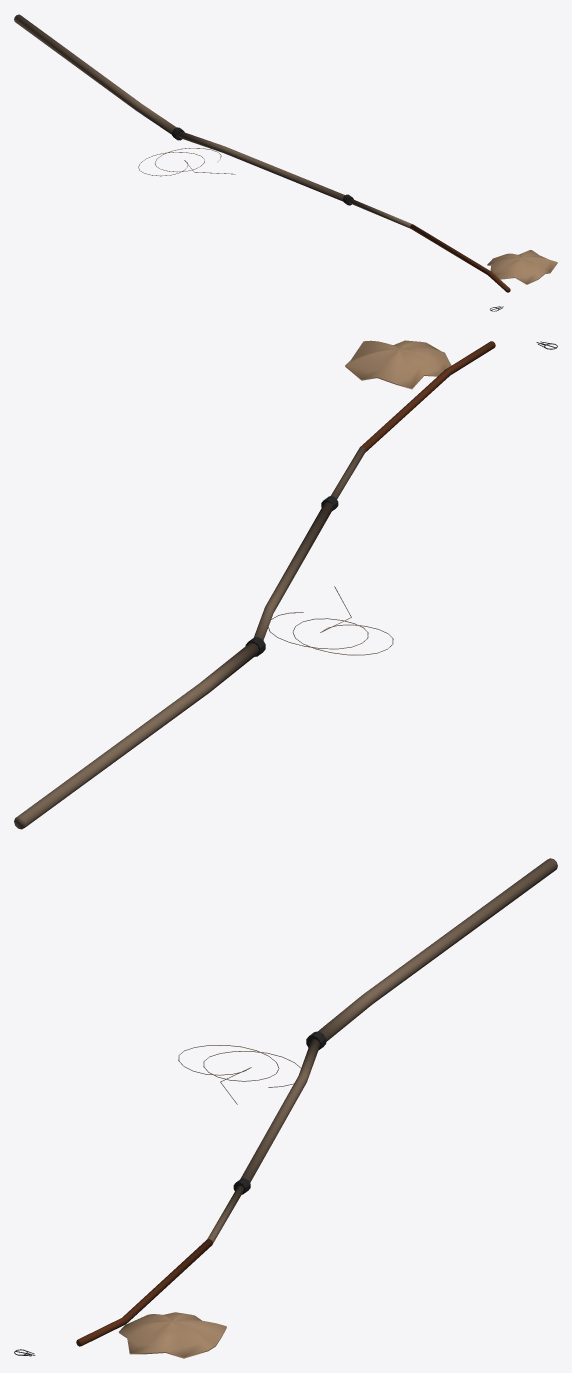
Rendered from pike_mast_wreck.glb.
3 views of the same model, one above another, from view 1: azimuth 30°, elevation 25°; view 2: azimuth 150°, elevation 25°; view 3: azimuth 330°, elevation 25° (orthographic). The views are drawn at different scales.
Parts seen in each view (by area): view 1: mast_wreck_LOD0, mast_wreck_dish_LOD0; view 2: mast_wreck_LOD0, mast_wreck_dish_LOD0, mast_wreck_guy_LOD0; view 3: mast_wreck_LOD0, mast_wreck_dish_LOD0.
Part boxes in pixels (bbox=[...]): mast_wreck_LOD0: bbox=[14, 14, 510, 292]; mast_wreck_dish_LOD0: bbox=[487, 250, 557, 284]; mast_wreck_LOD0: bbox=[14, 341, 495, 829]; mast_wreck_dish_LOD0: bbox=[345, 340, 451, 389]; mast_wreck_guy_LOD0: bbox=[268, 586, 393, 655]; mast_wreck_LOD0: bbox=[76, 858, 557, 1346]; mast_wreck_dish_LOD0: bbox=[119, 1312, 226, 1358].
Size of what is drawn, in the model's own units: 4.13 by 0.2251 by 13.68.
